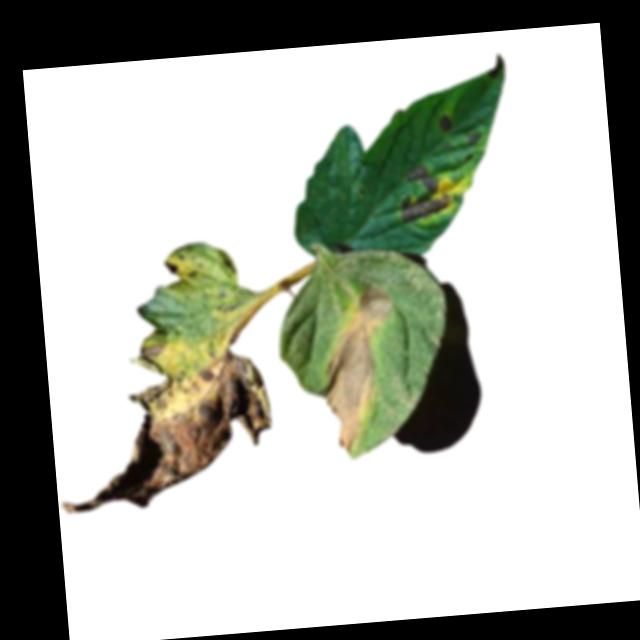Early_blight: (48, 337, 277, 519), (314, 284, 403, 457), (395, 161, 453, 225), (486, 54, 506, 83), (438, 114, 458, 133), (466, 132, 486, 148), (161, 260, 178, 278)
